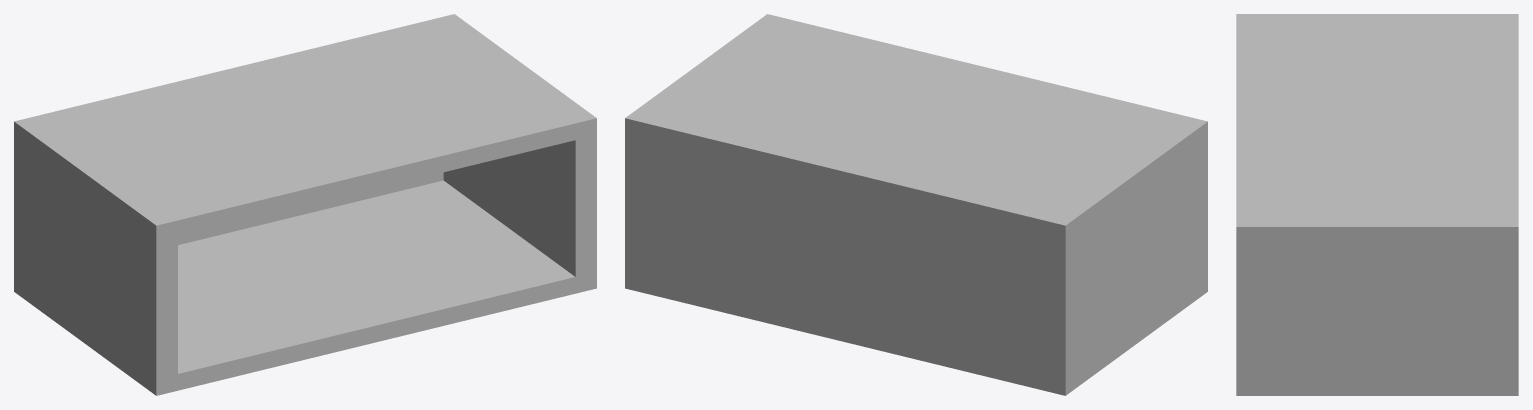
File: Itr_Wardrobe3_Body1_06.FBX
3 renders of one model, left to right at view 1: azimuth 30°, elevation 25°; view 2: azimuth 150°, elevation 25°; view 3: azimuth 270°, elevation 25°, orthographic.
Parts seen in each view (by area): view 1: Itr_Wardrobe3_Body1_06; view 2: Itr_Wardrobe3_Body1_06; view 3: Itr_Wardrobe3_Body1_06.
Part boxes in pixels (x1=…): Itr_Wardrobe3_Body1_06: x1=14, y1=14, x2=596, y2=395; Itr_Wardrobe3_Body1_06: x1=625, y1=14, x2=1207, y2=395; Itr_Wardrobe3_Body1_06: x1=1236, y1=14, x2=1518, y2=395.
Size of the model in its own units: 43.75 by 16.16 by 24.49.
